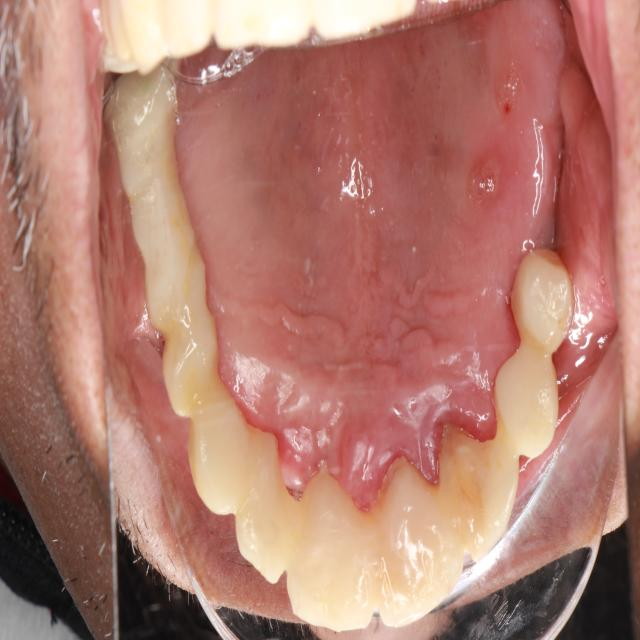tooth: (95, 55, 217, 265), (356, 444, 472, 634), (285, 453, 384, 634), (178, 364, 255, 532), (233, 414, 302, 595), (434, 411, 513, 566), (479, 325, 565, 467), (150, 303, 234, 430), (131, 233, 226, 339), (503, 233, 586, 354)
